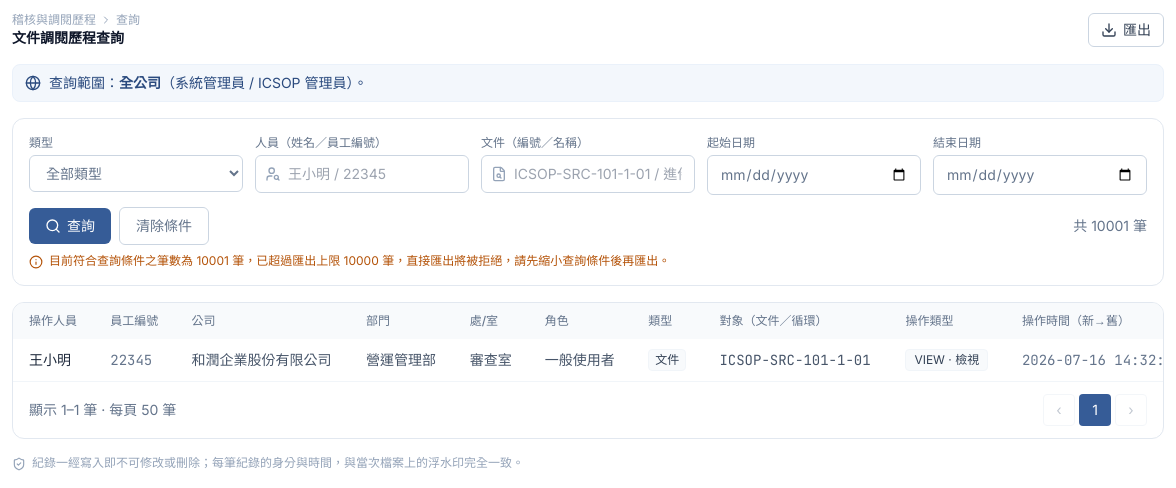
Test: AccessHistoryPage 匯出（AC-F19 超限之事前提示，off-by-one 邊界） › 提示與 aria-describedby 隨查詢結果重算而消失（改條件重查、total 降至上限以下）
Expected: the element with id "export-limit-hint" is shown, [29,253,670,269]
What coordinates should you click on to do the following:
click the button "查詢"
I would click on:
 (70, 226)
Its box is [29,208,111,244].
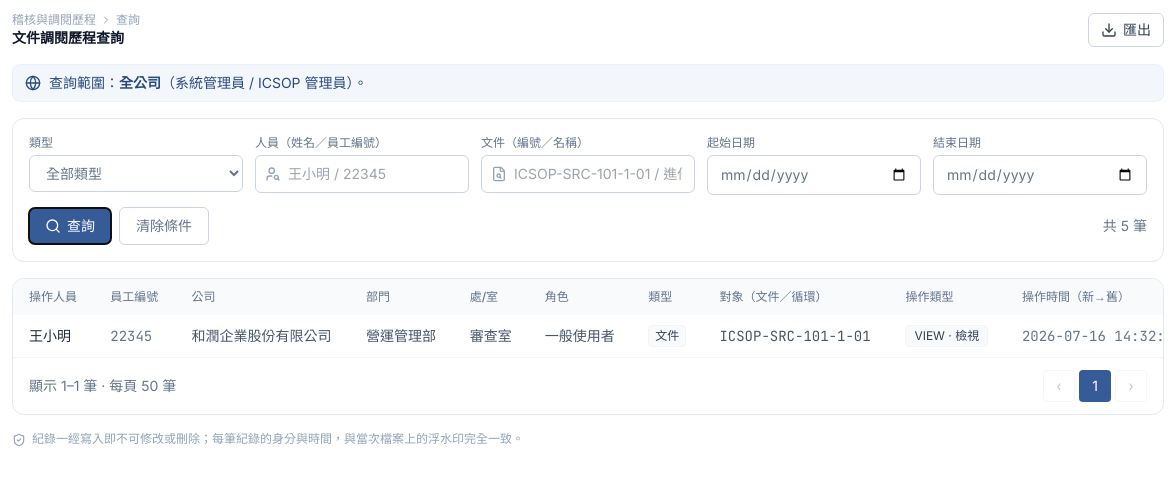
Now the element with id "export-limit-hint" is gone
